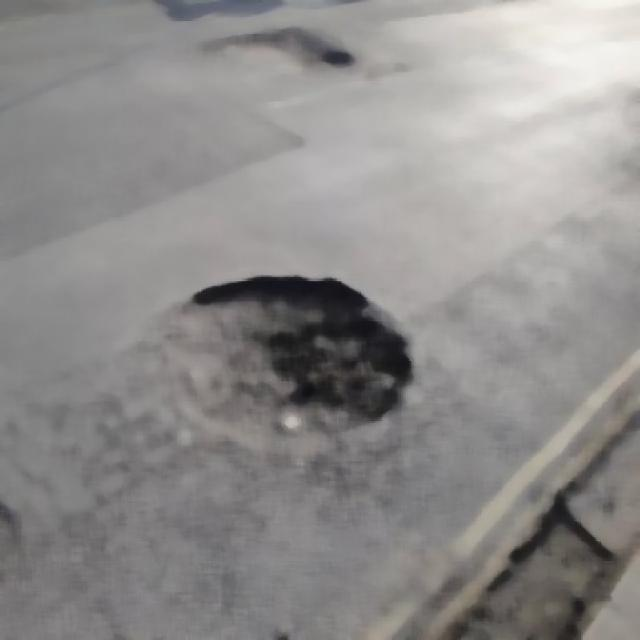Pothole: (153, 268, 404, 478), (195, 15, 380, 88)
